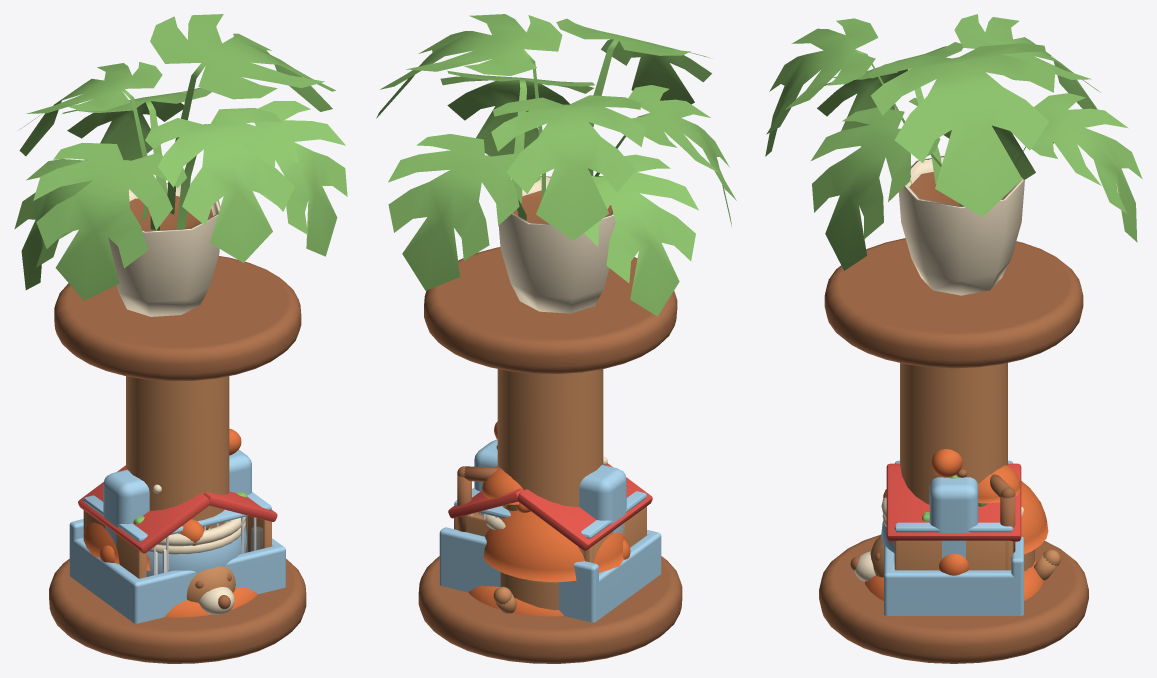
The model's file is interest_pet_plant_v3_8.glb.
The picture shows the model from 3 angles, left to right: view 1: azimuth 30°, elevation 25°; view 2: azimuth 150°, elevation 25°; view 3: azimuth 270°, elevation 25°; orthographic projection. The views are drawn at different scales.
Parts seen in each view (by area): view 1: plant_stand_plant_body, plant_stand_top, plant_stand_base, plant_stand_post, tank_front, ant_frame, tank_side_-1, rabbit_hutch_roof_l, fish_bowl_glass, hamster_cage_roof, rabbit_hutch_roof_r, dog_head (+7 smaller); view 2: plant_stand_plant_body, plant_stand_top, plant_stand_base, plant_stand_post, house_roof, tank_back, tank_side_-1, ant_frame, rabbit_hutch_roof_l, house_body, rabbit_hutch_roof_r, bed_rim (+5 smaller); view 3: plant_stand_plant_body, plant_stand_top, plant_stand_base, plant_stand_post, tank_side_1, rabbit_hutch_roof_r, ant_frame, rabbit_hutch, house_roof, hamster_cage_roof, lamp_shade, bed_rim (+1 smaller).
Part boxes in pixels (<box>): plant_stand_plant_body: <box>14,14,347,316</box>; plant_stand_top: <box>54,256,301,381</box>; plant_stand_base: <box>49,559,306,663</box>; plant_stand_post: <box>126,376,229,528</box>; tank_front: <box>132,545,285,623</box>; ant_frame: <box>103,449,251,552</box>; tank_side_-1: <box>69,538,142,623</box>; rabbit_hutch_roof_l: <box>78,465,209,553</box>; fish_bowl_glass: <box>146,526,247,576</box>; hamster_cage_roof: <box>83,492,271,541</box>; rabbit_hutch_roof_r: <box>204,491,277,521</box>; dog_head: <box>186,566,235,602</box>; plant_stand_plant_body: <box>376,14,736,316</box>; plant_stand_top: <box>424,247,677,373</box>; plant_stand_base: <box>418,556,682,663</box>; plant_stand_post: <box>497,369,603,510</box>; house_roof: <box>483,510,627,581</box>; tank_back: <box>439,527,598,622</box>; tank_side_-1: <box>586,532,661,622</box>; ant_frame: <box>474,439,626,534</box>; rabbit_hutch_roof_l: <box>517,463,652,550</box>; house_body: <box>500,572,558,610</box>; rabbit_hutch_roof_r: <box>448,488,523,518</box>; bed_rim: <box>468,586,563,616</box>; plant_stand_plant_body: <box>765,14,1142,295</box>; plant_stand_top: <box>824,238,1083,368</box>; plant_stand_base: <box>819,534,1088,663</box>; plant_stand_post: <box>900,363,1007,504</box>; tank_side_1: <box>884,570,1023,615</box>; rabbit_hutch_roof_r: <box>886,466,1021,541</box>; ant_frame: <box>929,477,978,558</box>; rabbit_hutch: <box>894,540,1005,570</box>; house_roof: <box>1021,481,1048,554</box>; hamster_cage_roof: <box>894,460,1013,532</box>; lamp_shade: <box>978,465,1020,503</box>; bed_rim: <box>865,560,1043,600</box>.
Bounding box in the file's own units: 0.7 × 1.19 × 0.7.
